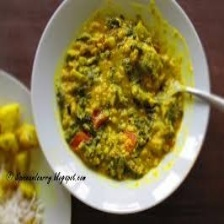sabzi: (54, 12, 190, 182)
